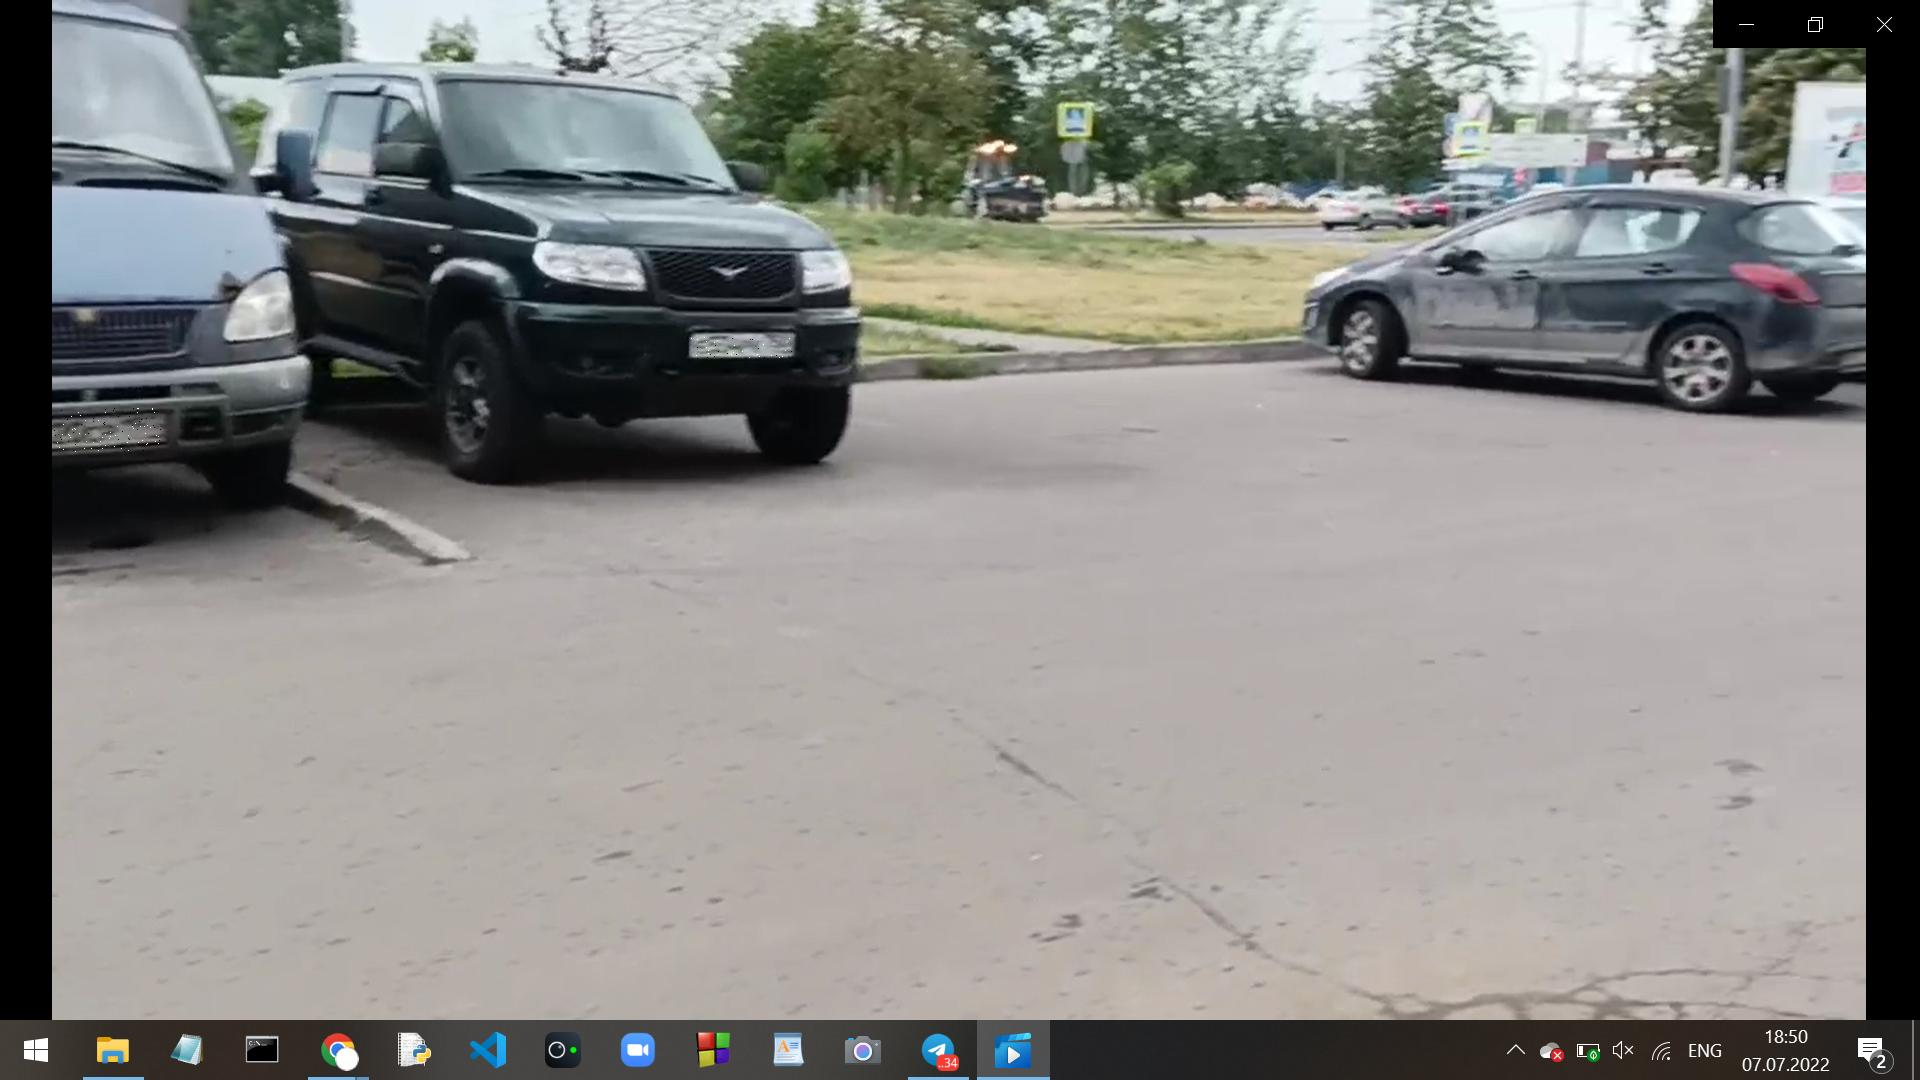plate: (51, 410, 162, 454), (691, 338, 799, 360)
